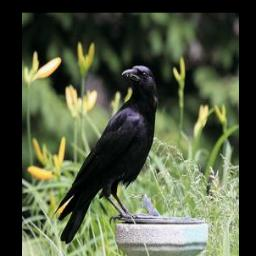Crow: (53, 64, 159, 245)
